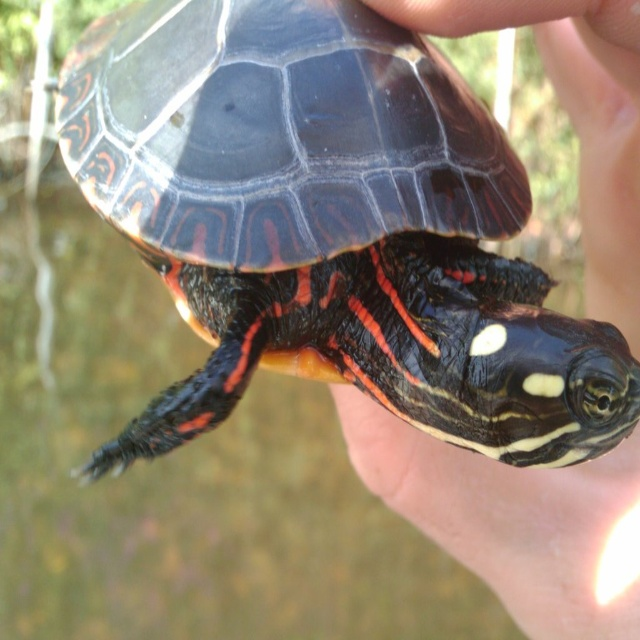Tortoise: (30, 0, 640, 489)
